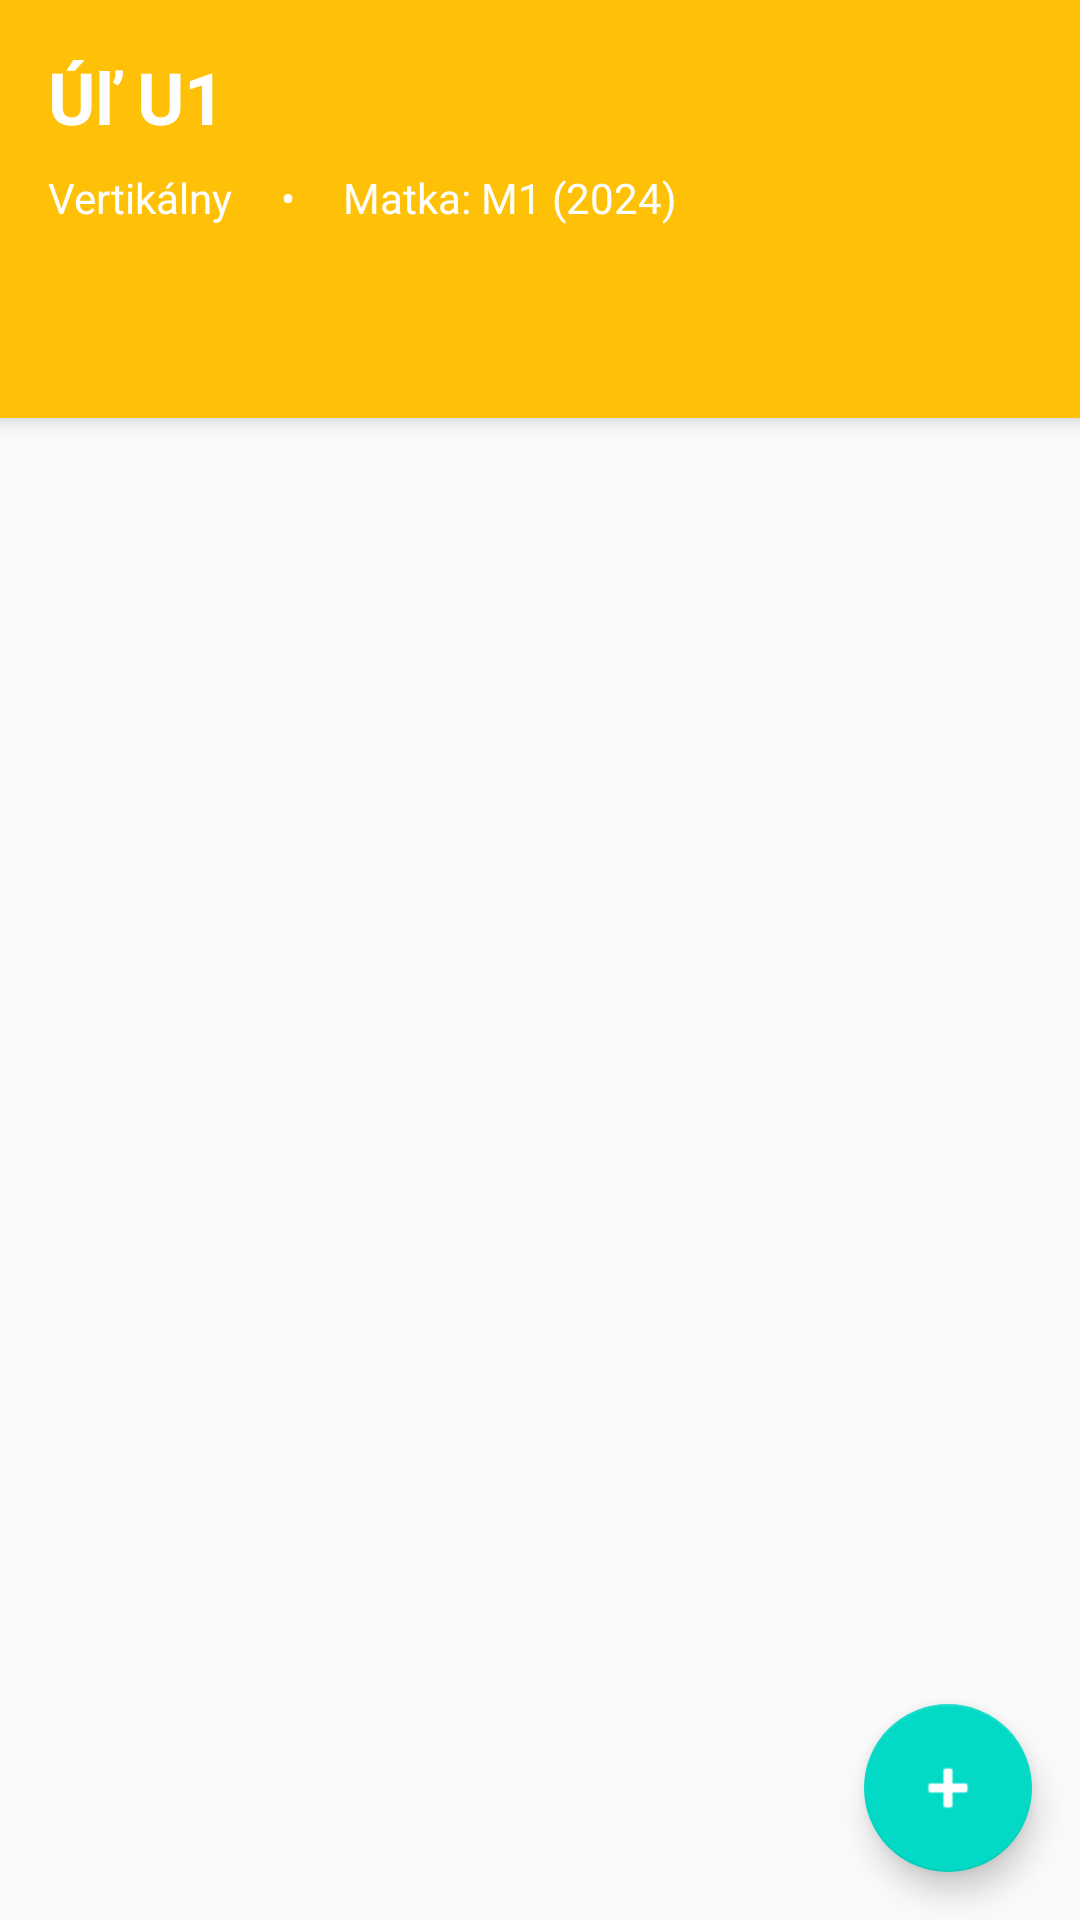

Named icons in this screenshot (1080×1920) and their centers, (x,y):
Pridať: (948,1788)
